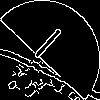I: (25, 25, 65, 69)
